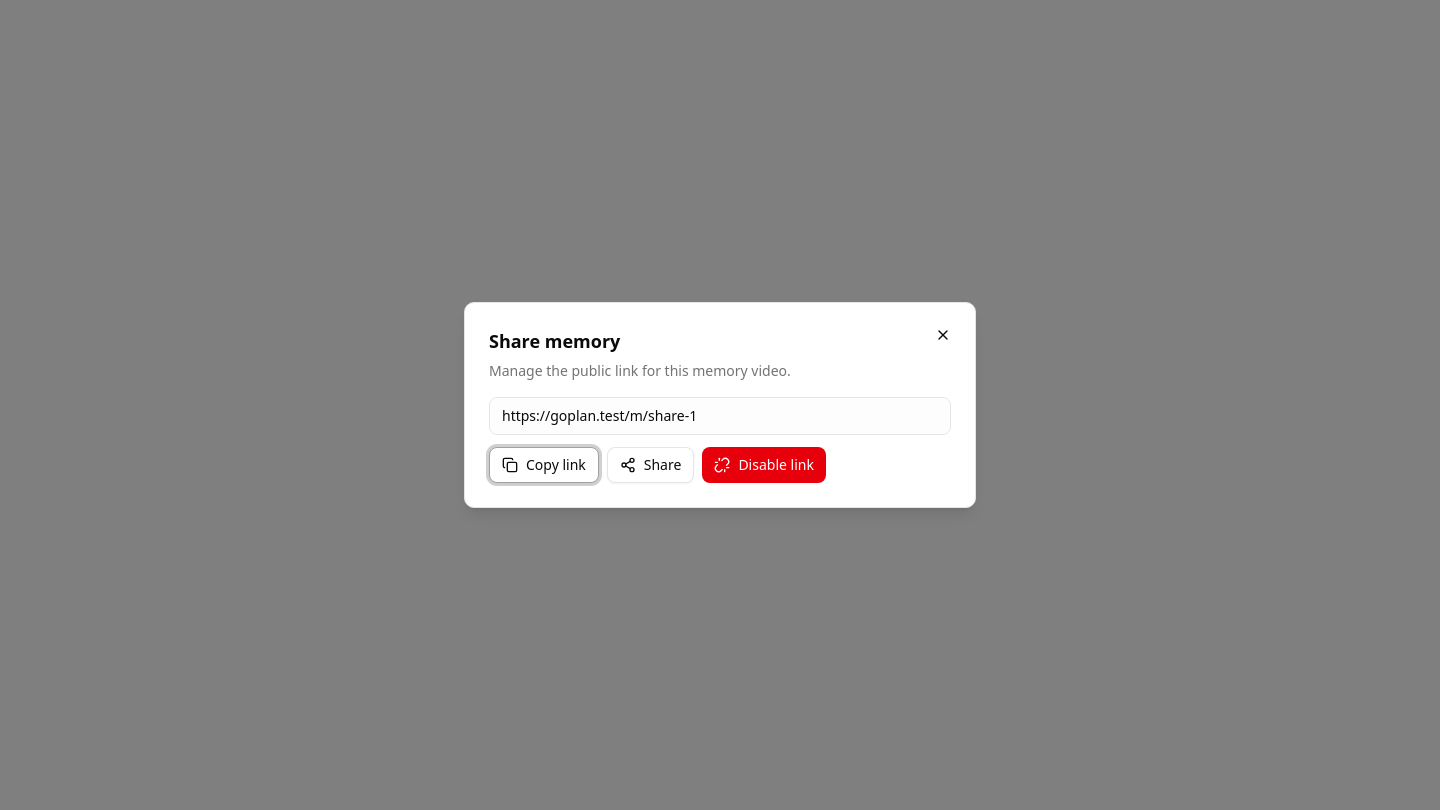
ShareMemoryDialog › shows a message when native share fails
Click the button "Share".
click(651, 465)  # box [607,447,694,483]
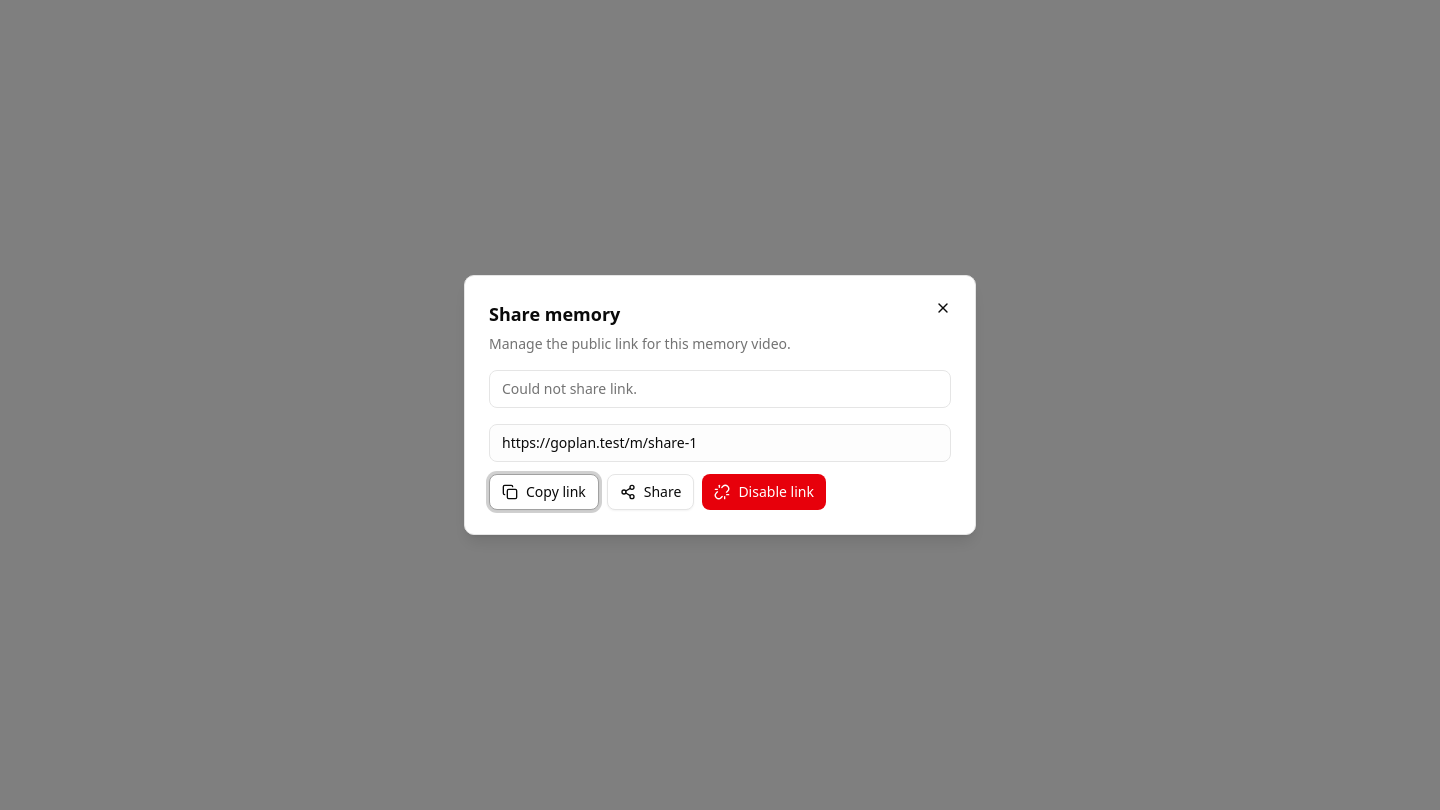
Expected: the text "Could not share link." is shown, [489,370,951,408]
